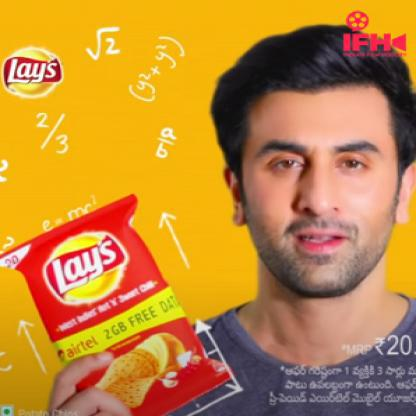tangy_tomato: (0, 195, 236, 415)
